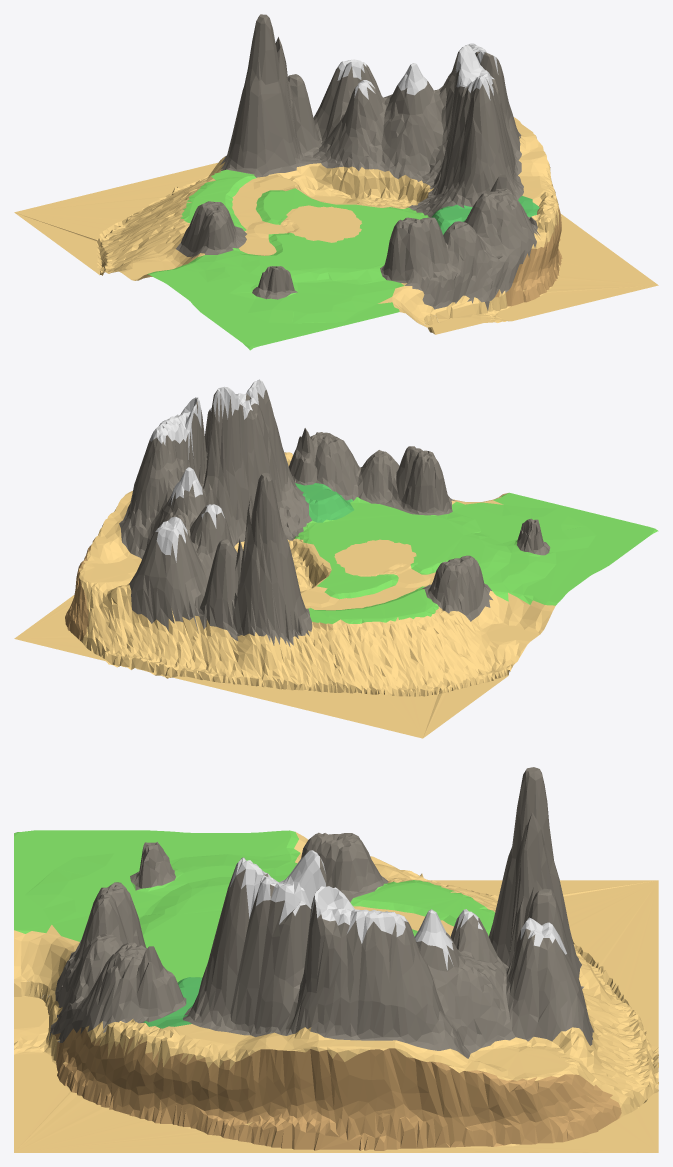
The model's file is Island.fbx.
The picture shows the model from 3 angles, top to bottom: view 1: azimuth 30°, elevation 25°; view 2: azimuth 150°, elevation 25°; view 3: azimuth 270°, elevation 25°; orthographic projection. The views are drawn at different scales.
Visible parts, largest first — view 1: MAP, 평면; view 2: MAP, 평면; view 3: MAP.
Boxes of the visible parts, <box> form: MAP: <box>14,14,658,350</box>; 평면: <box>278,203,384,245</box>; MAP: <box>14,379,658,738</box>; 평면: <box>325,538,417,576</box>; MAP: <box>14,767,658,1152</box>.
Size of the model in its own units: 200 by 88.22 by 200.
